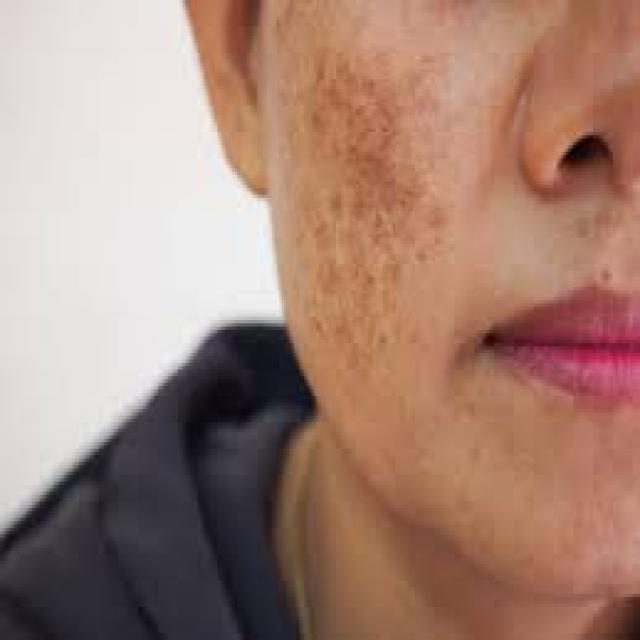pigmentation: (316, 56, 426, 310)
